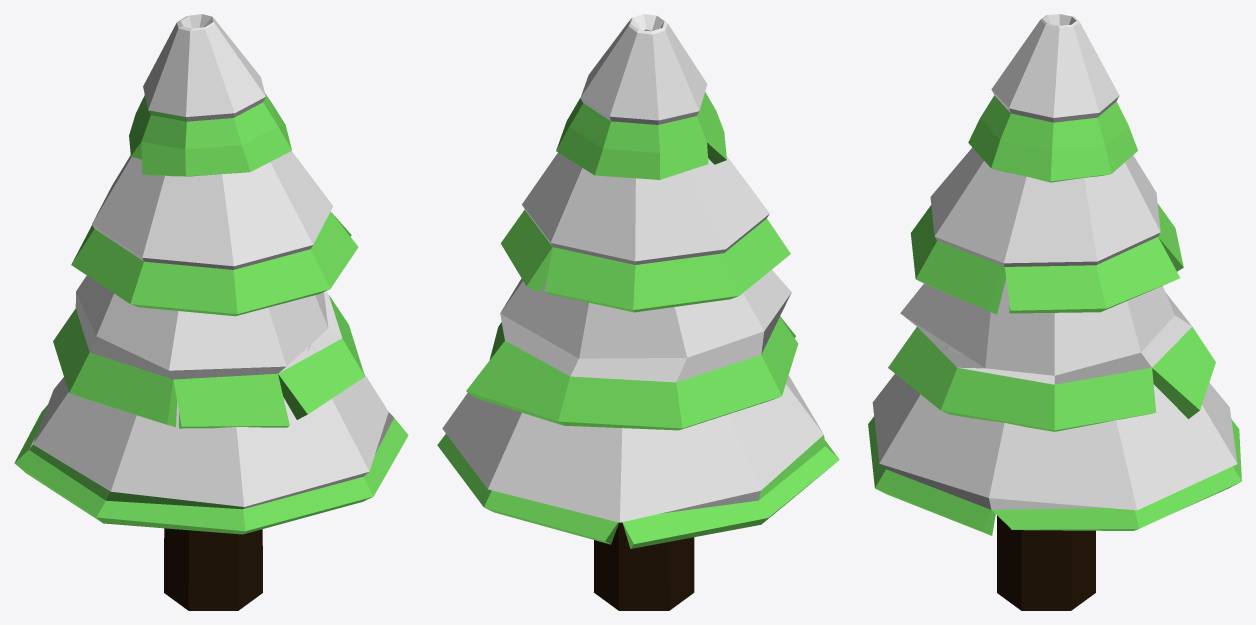
The model's file is lowpolytree.fbx.
3 renders of one model, left to right at view 1: azimuth 30°, elevation 25°; view 2: azimuth 150°, elevation 25°; view 3: azimuth 270°, elevation 25°, orthographic.
Visible parts, largest first — view 1: Cylinder; view 2: Cylinder; view 3: Cylinder.
Boxes of the visible parts, bbox=[...] form: Cylinder: bbox=[14, 14, 408, 610]; Cylinder: bbox=[437, 14, 839, 610]; Cylinder: bbox=[868, 14, 1241, 610].
Size of the model in its own units: 755 by 1269 by 755.
